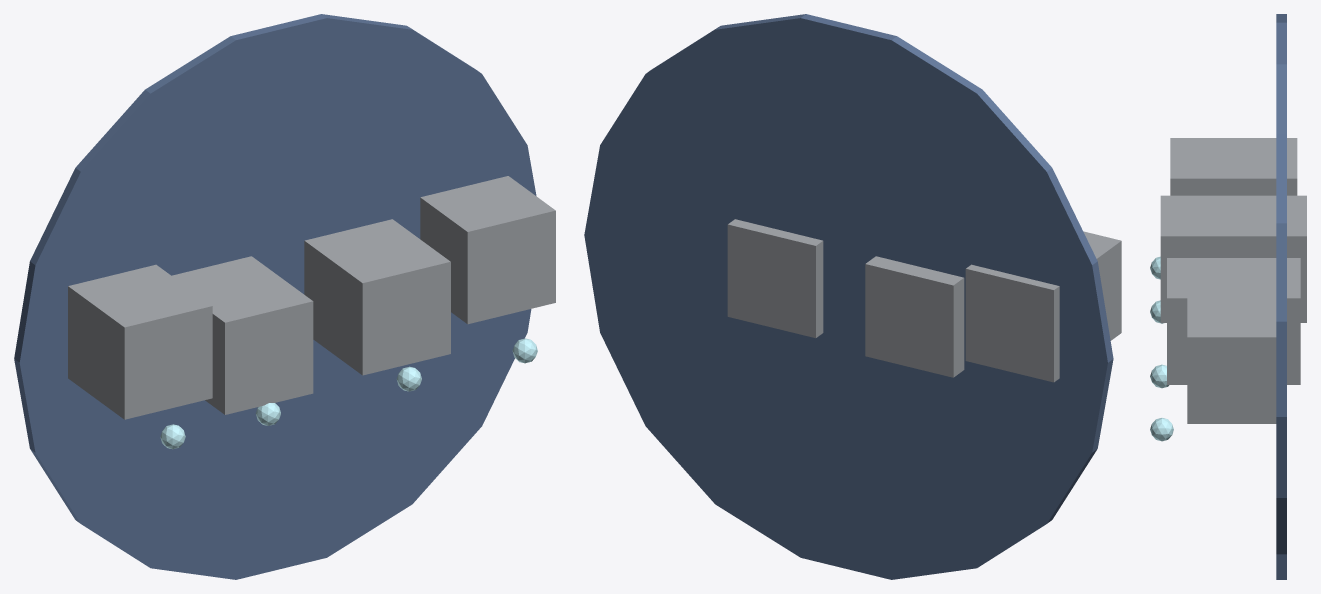
File: 03_ambient_object_cluster.glb
The picture shows the model from 3 angles, left to right: view 1: azimuth 30°, elevation 25°; view 2: azimuth 150°, elevation 25°; view 3: azimuth 270°, elevation 25°; orthographic projection. The views are drawn at different scales.
Parts seen in each view (by area): view 1: scatter_base, tech_crate_0, tech_crate_2, tech_crate_3, tech_crate_1; view 2: scatter_base, tech_crate_0, tech_crate_1, tech_crate_2; view 3: tech_crate_3, tech_crate_1, tech_crate_2, tech_crate_0, scatter_base, status_light_3, status_light_2.
Part boxes in pixels (<box>): scatter_base: <box>14,14,536,579</box>; tech_crate_0: <box>68,264,212,419</box>; tech_crate_2: <box>304,219,450,375</box>; tech_crate_3: <box>420,176,555,324</box>; tech_crate_1: <box>172,256,313,414</box>; scatter_base: <box>584,14,1113,579</box>; tech_crate_0: <box>965,231,1121,382</box>; tech_crate_1: <box>865,256,964,377</box>; tech_crate_2: <box>727,219,823,338</box>; tech_crate_3: <box>1187,297,1276,423</box>; tech_crate_1: <box>1160,195,1306,322</box>; tech_crate_2: <box>1167,258,1300,384</box>; tech_crate_0: <box>1170,138,1297,195</box>; scatter_base: <box>1276,14,1286,579</box>; status_light_3: <box>1150,418,1173,441</box>; status_light_2: <box>1150,364,1169,388</box>.
Bounding box in the file's own units: 1.9 × 1.87 × 0.5247.
